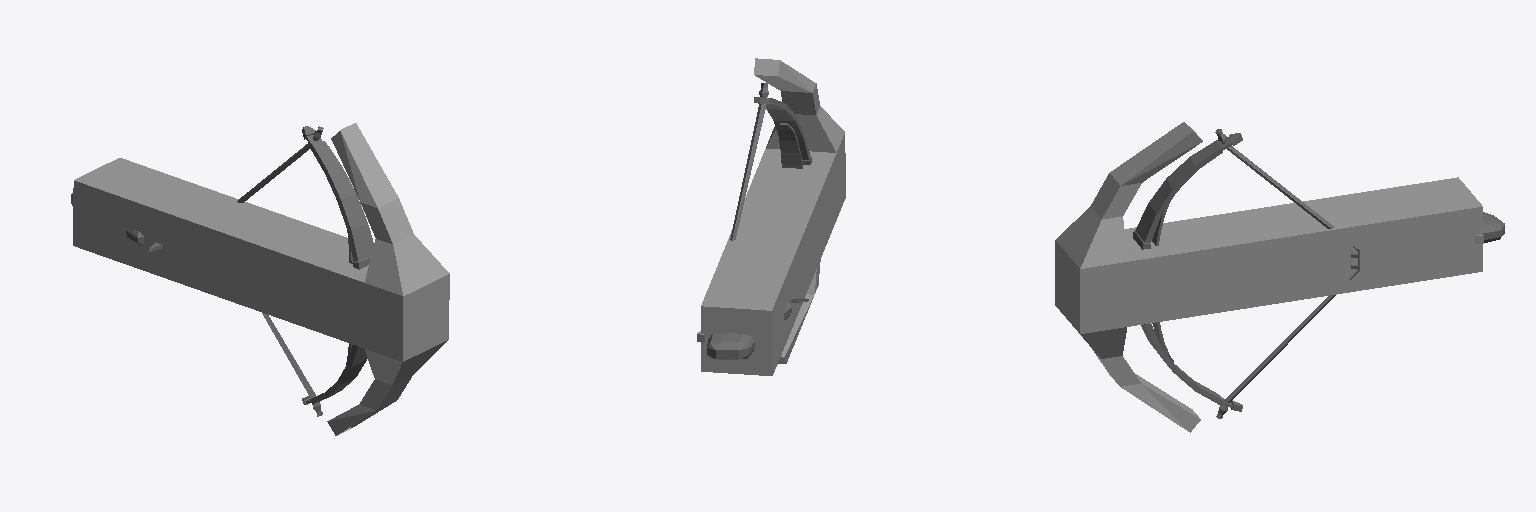
File: crossbow.obj
3 views of the same model, side by side, from view 1: azimuth 30°, elevation 25°; view 2: azimuth 150°, elevation 25°; view 3: azimuth 270°, elevation 25° (orthographic).
Parts seen in each view (by area): view 1: crossbow_coll, crossbow; view 2: crossbow_coll, crossbow; view 3: crossbow_coll, crossbow.
Part boxes in pixels (x1,y1,x2,y2): crossbow_coll: (73, 123, 449, 435); crossbow: (71, 126, 373, 416); crossbow_coll: (701, 58, 845, 375); crossbow: (707, 83, 811, 359); crossbow_coll: (1055, 122, 1482, 432); crossbow: (1133, 129, 1504, 418).
Size of the model in its own units: 1.17 by 1.81 by 2.43.